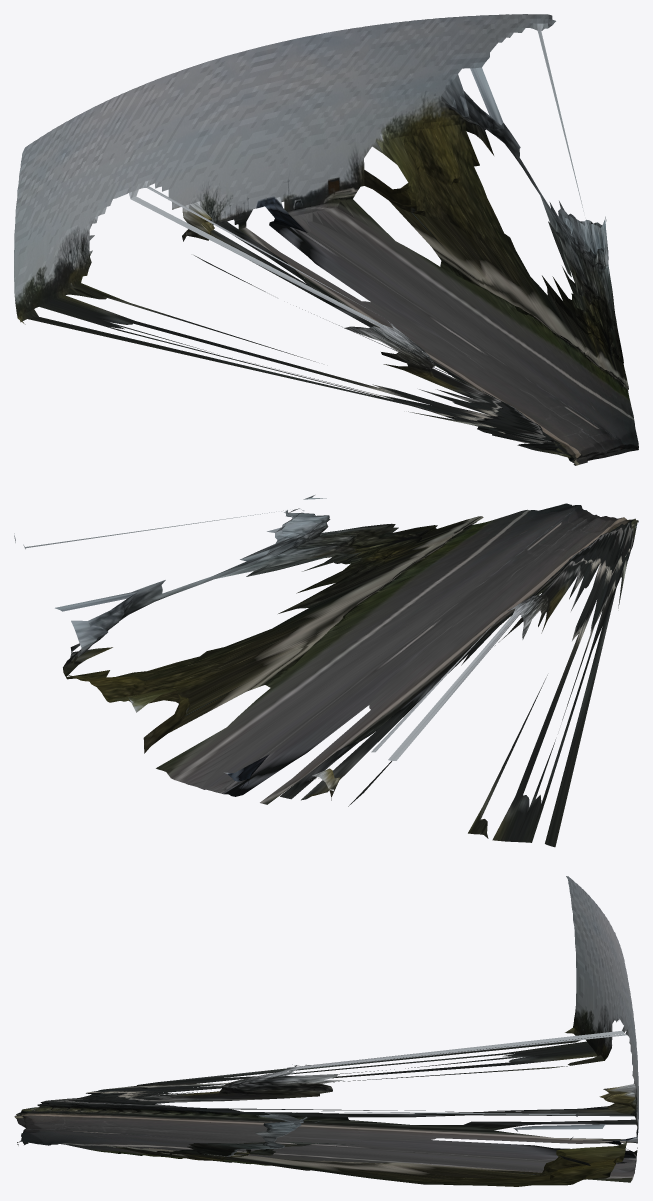
3 renders of one model, top to bottom at view 1: azimuth 30°, elevation 25°; view 2: azimuth 150°, elevation 25°; view 3: azimuth 270°, elevation 25°, orthographic. The views are drawn at different scales.
Visible parts, largest first — view 1: defaultobject; view 2: defaultobject; view 3: defaultobject.
Part boxes in pixels (x1,y1,x2,y2): defaultobject: (14, 14, 638, 465); defaultobject: (14, 495, 638, 847); defaultobject: (14, 876, 638, 1186).
Bounding box in the file's own units: 39.7 × 13.24 × 44.57.
1 material, 1 textured.
